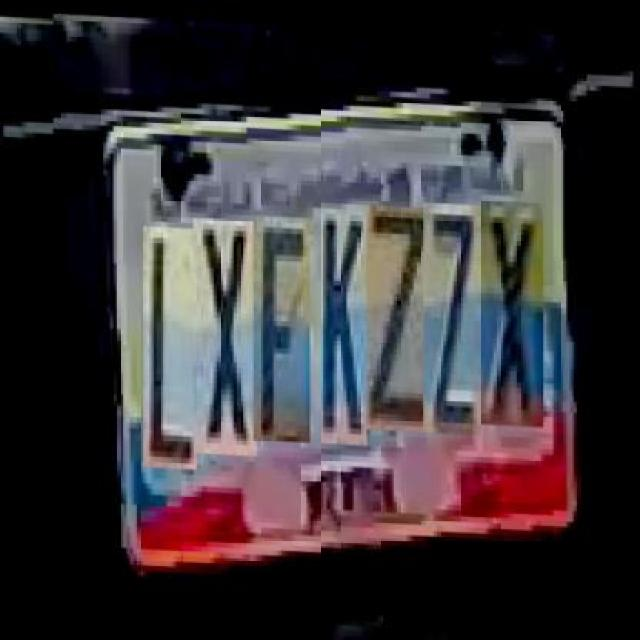f: (253, 208, 310, 434)
k: (320, 204, 368, 442)
l: (143, 220, 197, 462)
x: (192, 210, 257, 448), (479, 194, 544, 421)
z: (367, 200, 430, 428), (423, 198, 480, 430)
